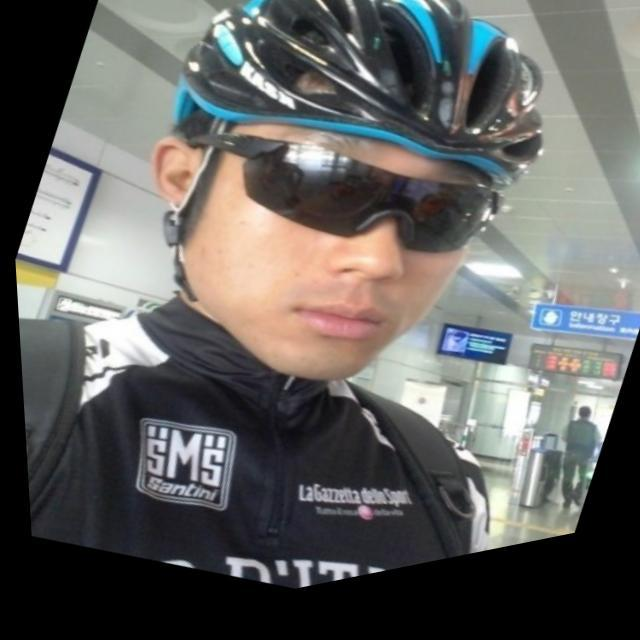Helmet: (147, 0, 548, 384)
